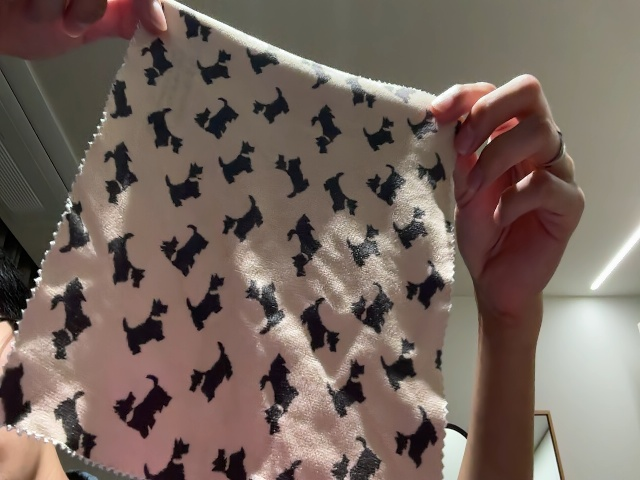towel: (1, 1, 467, 480)
